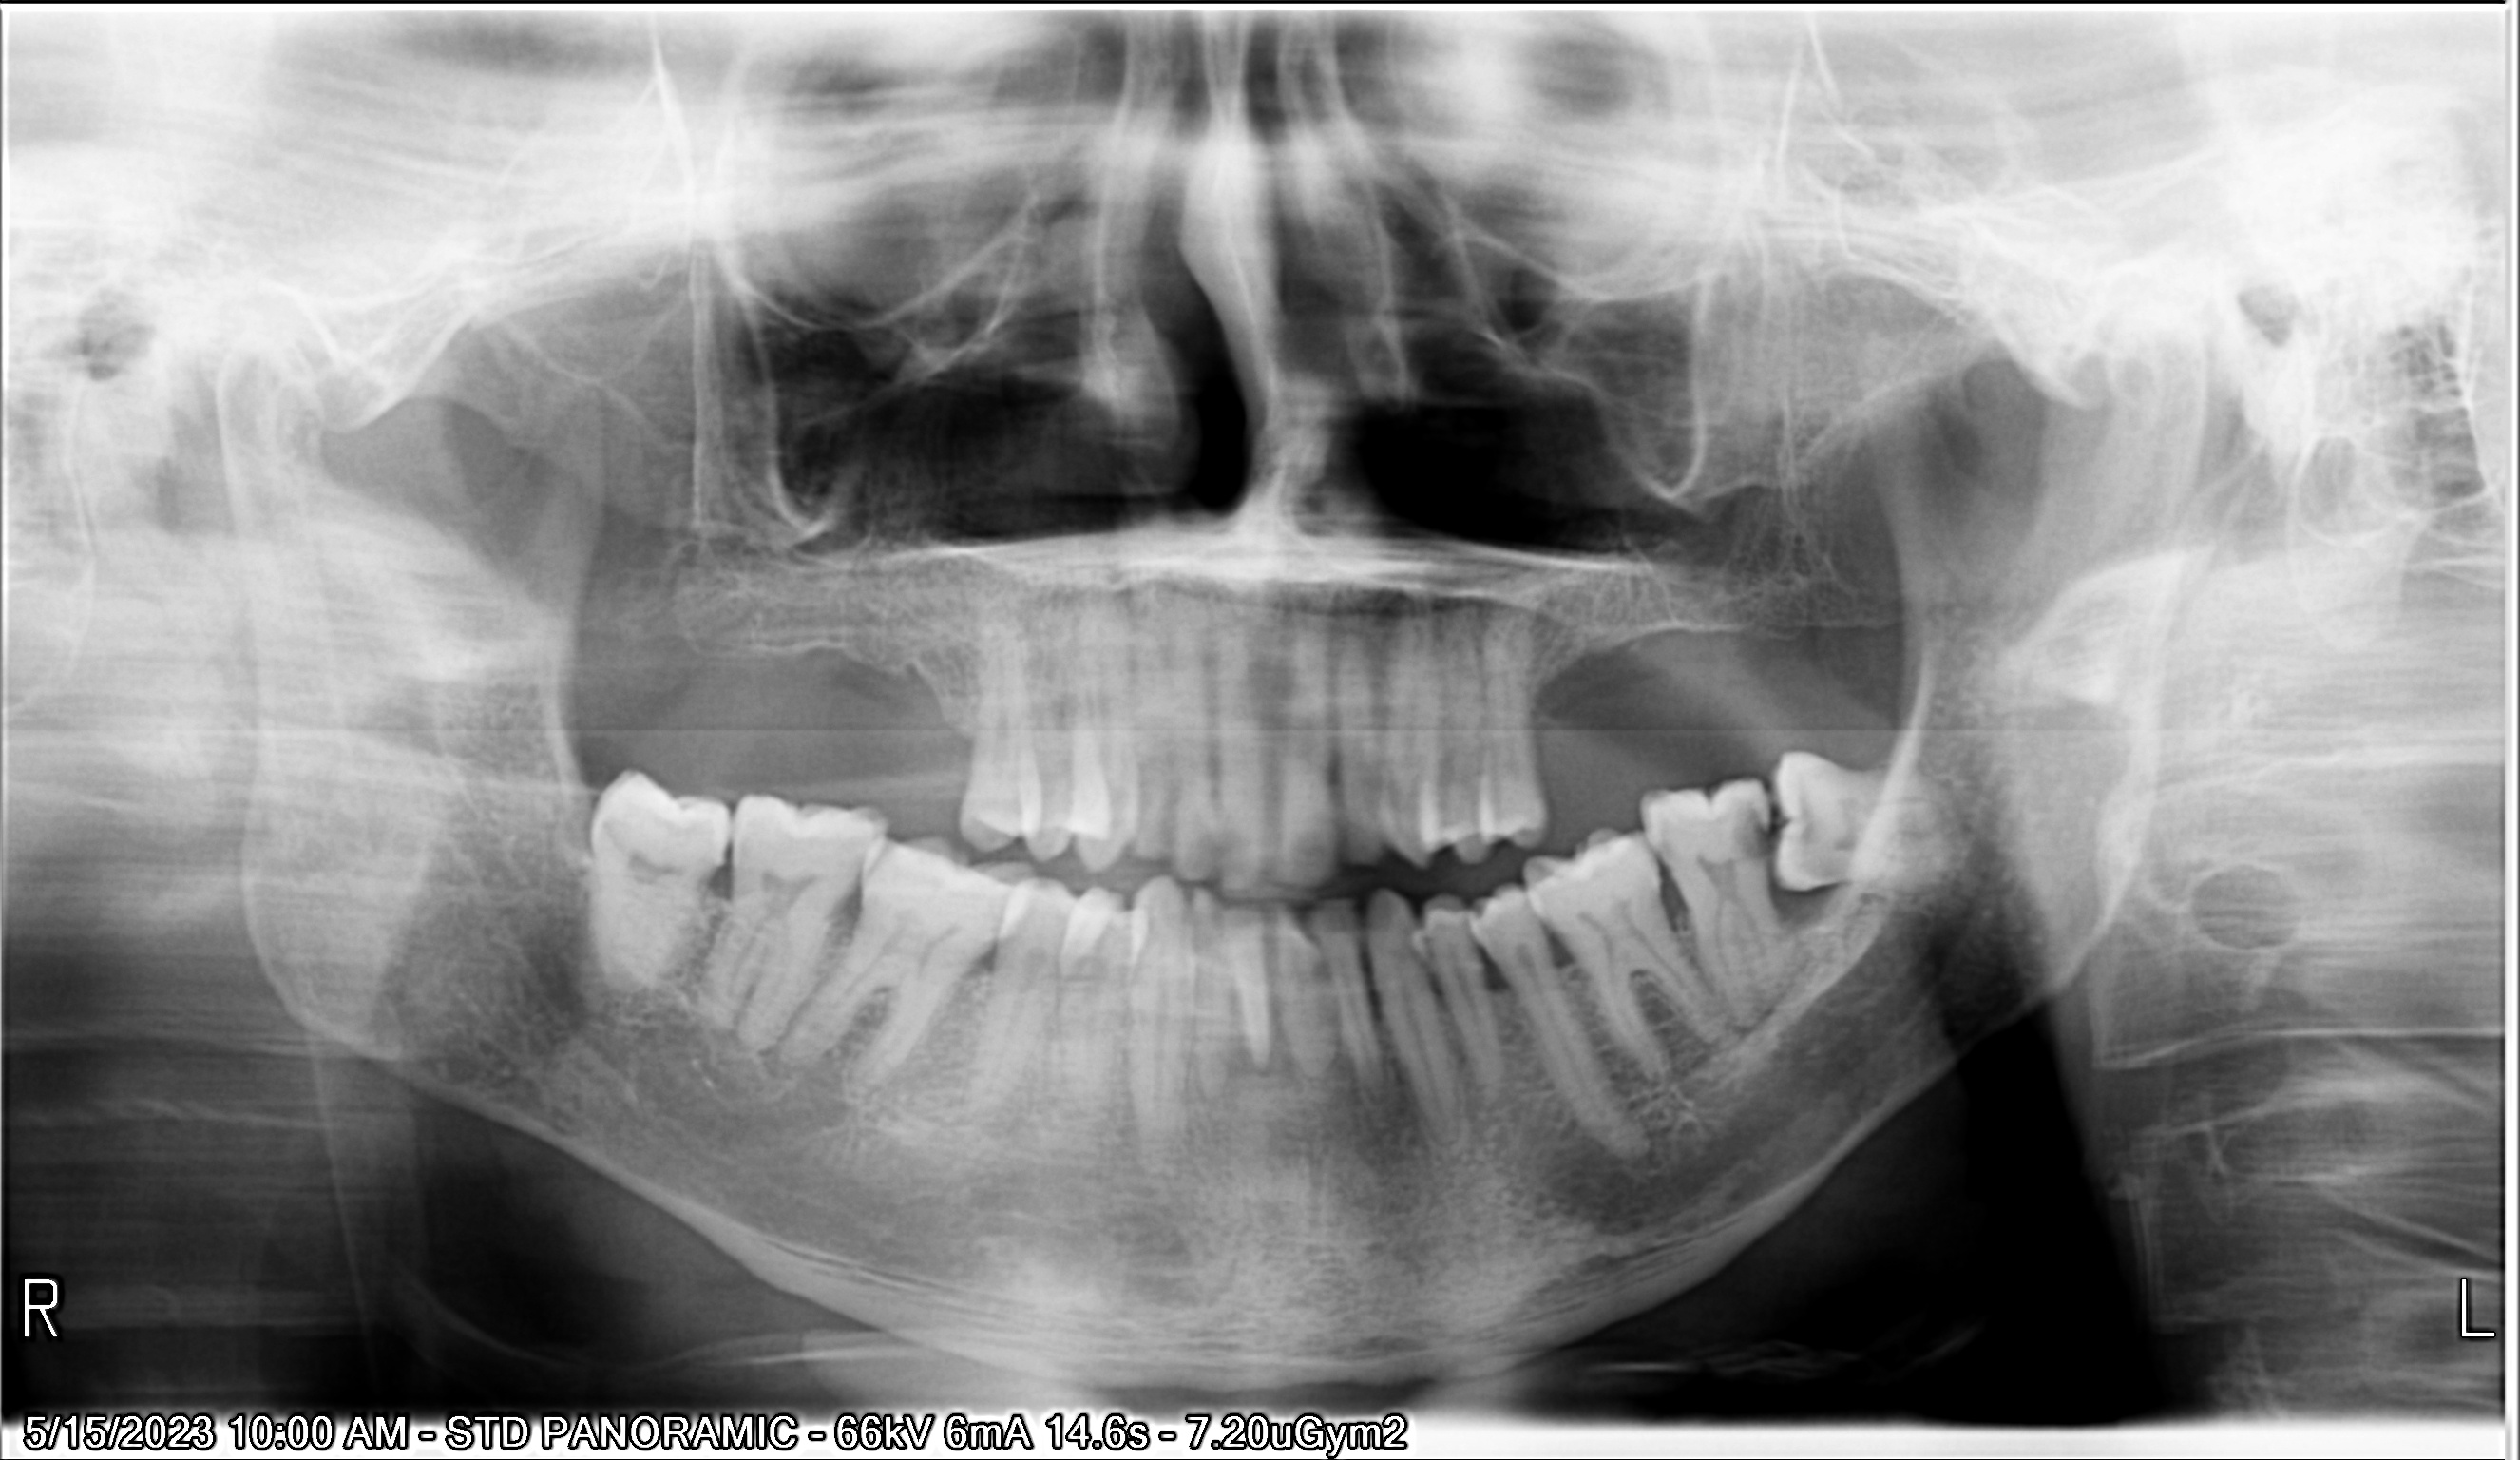API: (1238, 1041, 1289, 1090)
BON: (1351, 954, 1386, 1022), (1662, 881, 1695, 926), (1481, 963, 1509, 992), (1422, 972, 1441, 1005), (710, 862, 724, 904), (986, 939, 1000, 980), (844, 888, 860, 925), (1264, 959, 1275, 1013)
CAR: (901, 864, 966, 907), (1738, 803, 1775, 871), (651, 806, 703, 850), (1290, 909, 1318, 961), (1573, 871, 1627, 892)
IMT: (1780, 746, 1980, 892)
